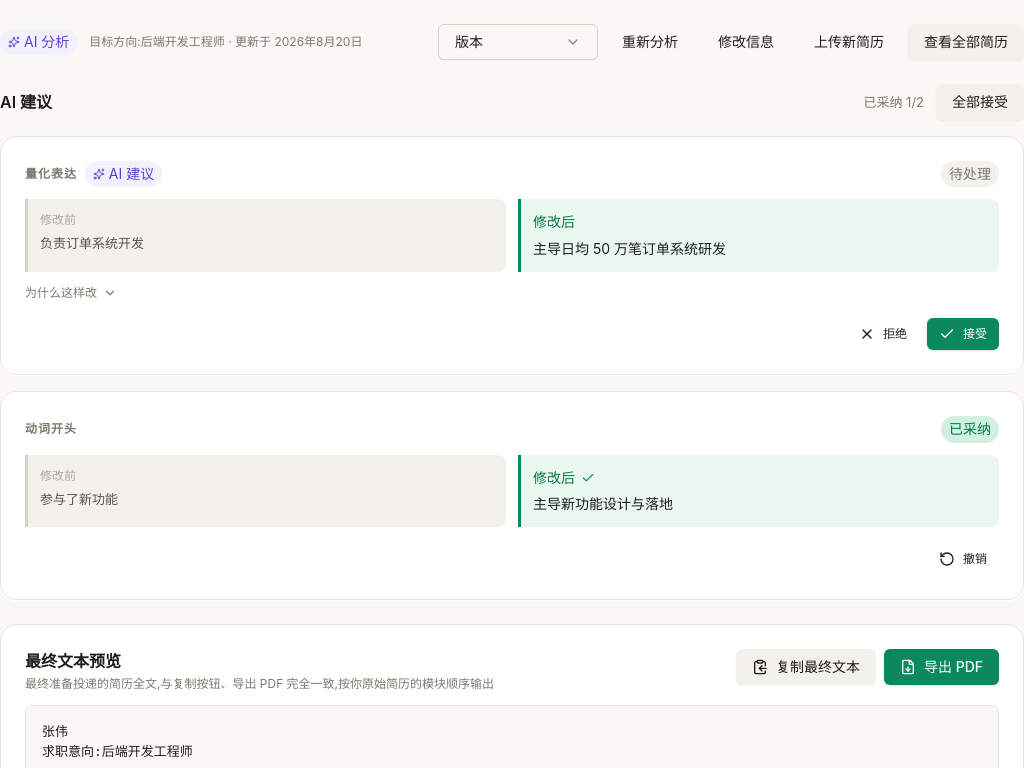
Test case: ResumeResult 结果视图 › 全部接受(确认后执行):点击仅开确认不调 mutation;确认后 acceptAll(versionId)+ 失效刷新 + 成功 toast
Step 1. Click the button "全部接受" → click(980, 102), box [936,84,1023,120]
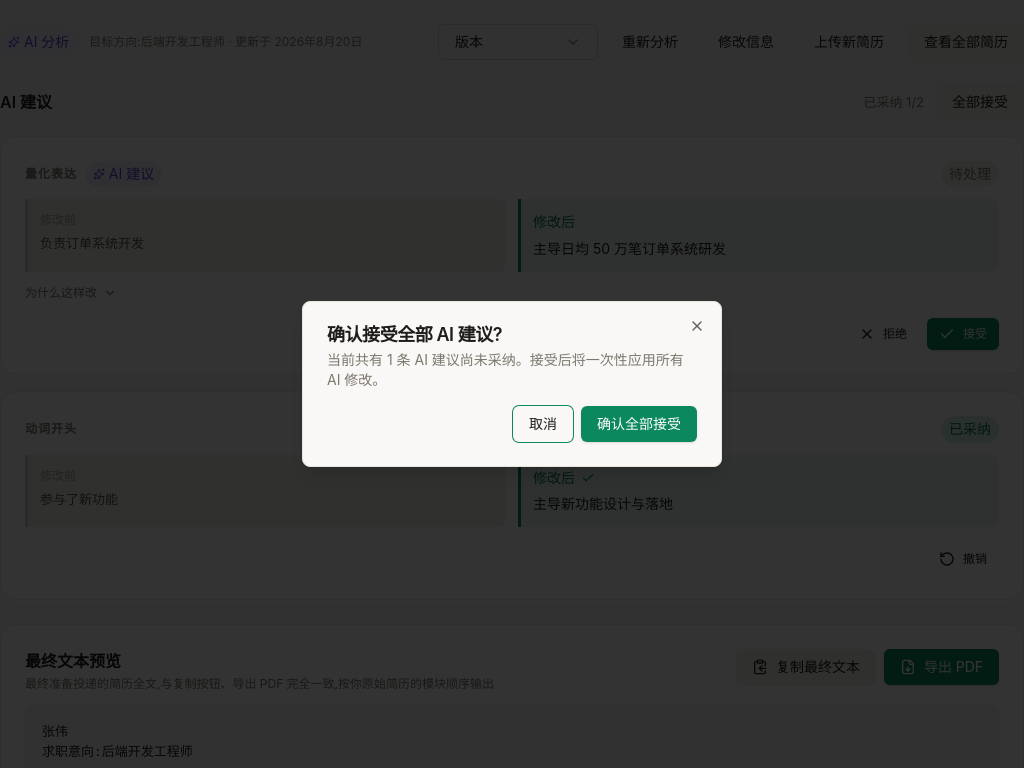
expect the heading "确认接受全部 AI 建议?" is shown: met, box [327,324,502,345]
Step 2. Click the button "确认全部接受" → click(639, 424), box [581,406,697,442]
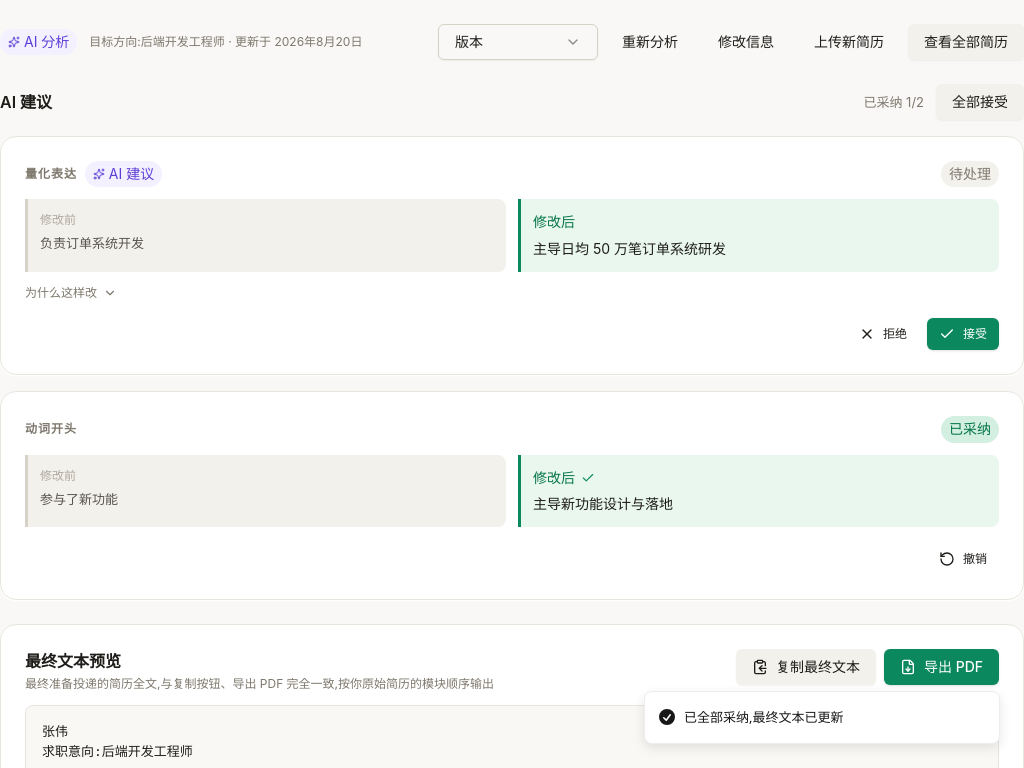
expect the text "已全部采纳,最终文本已更新" is shown: met, box [684,708,844,727]
